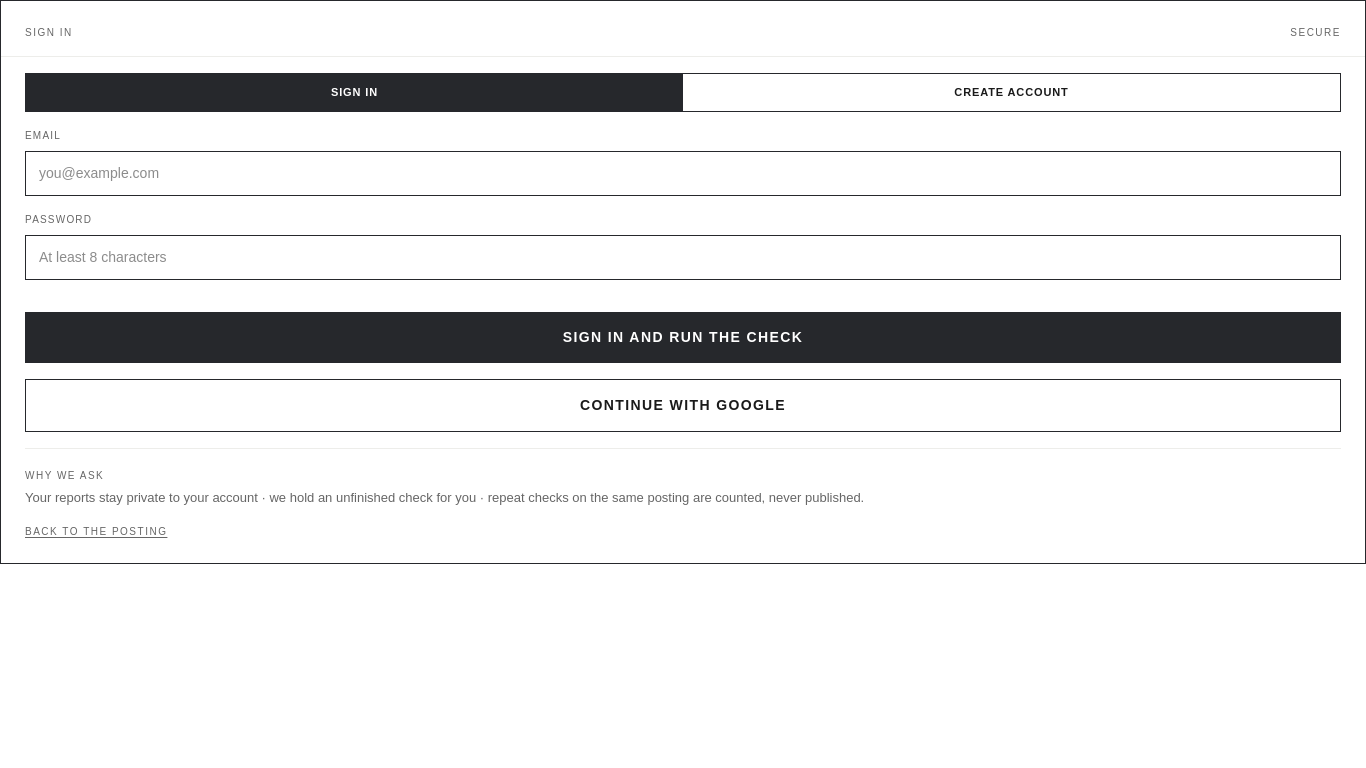
AuthForm › blocks submit and shows a message when password < 8 chars
Type "a@b.com" into the field labelled "Email" at [683, 173], box [25,150,1341,196]
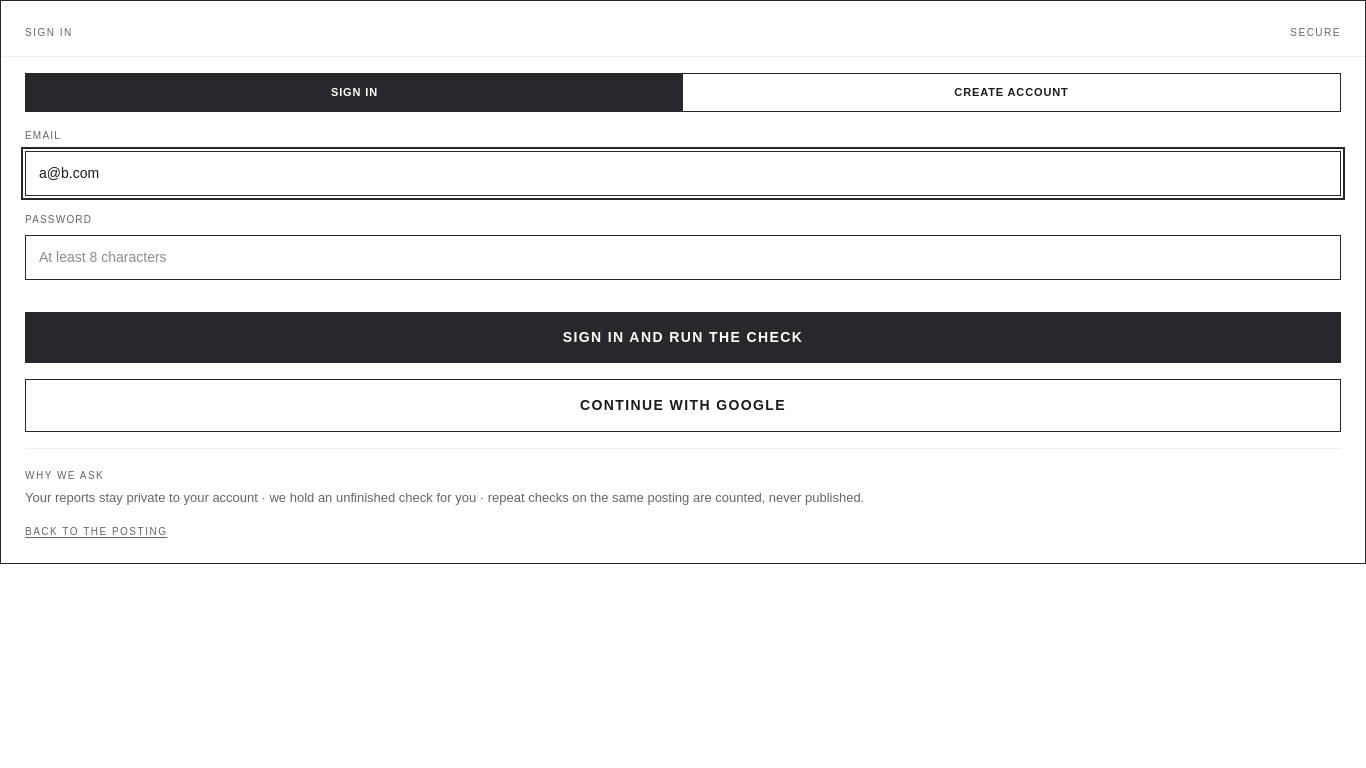
Type "short" into the password field labelled "Password" at [683, 257], box [25,234,1341,280]
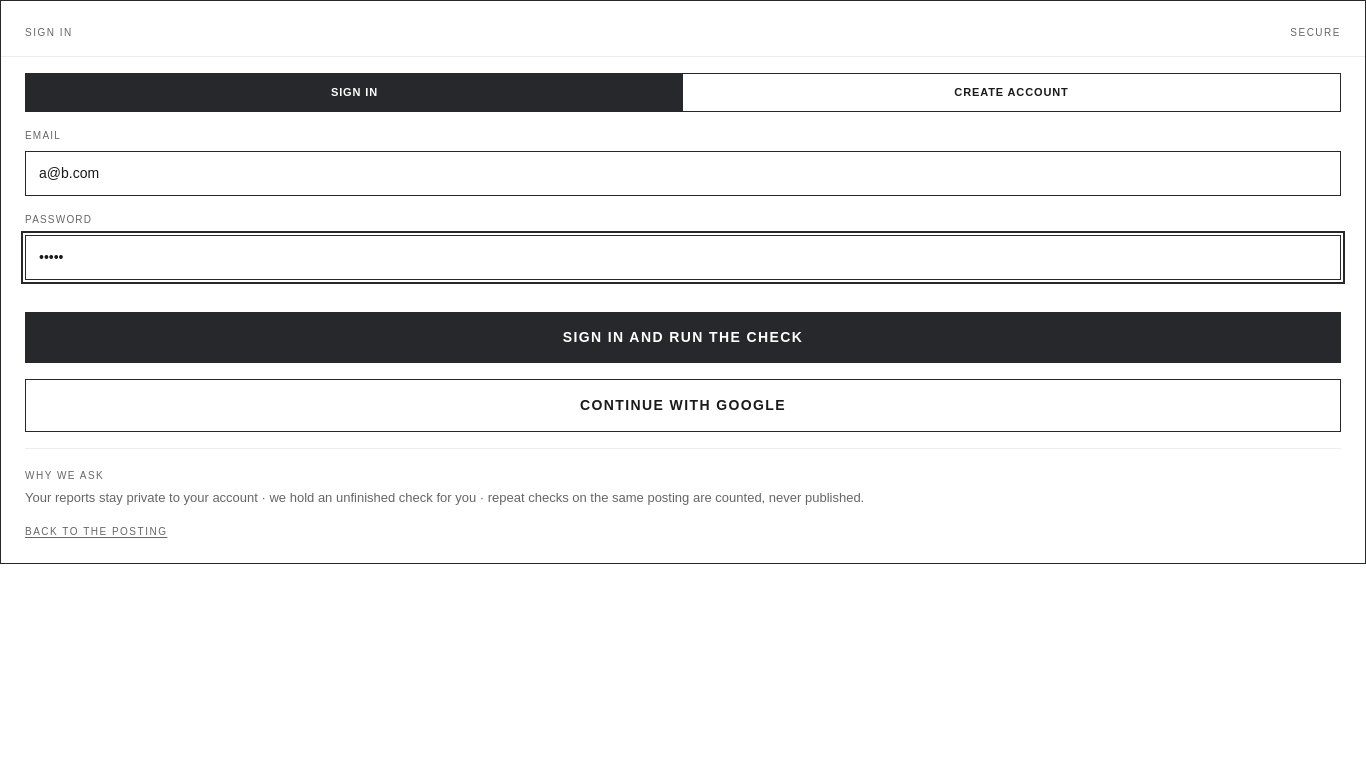
Click the button "SIGN IN AND RUN THE CHECK" at [683, 337], box [25,312,1341,362]
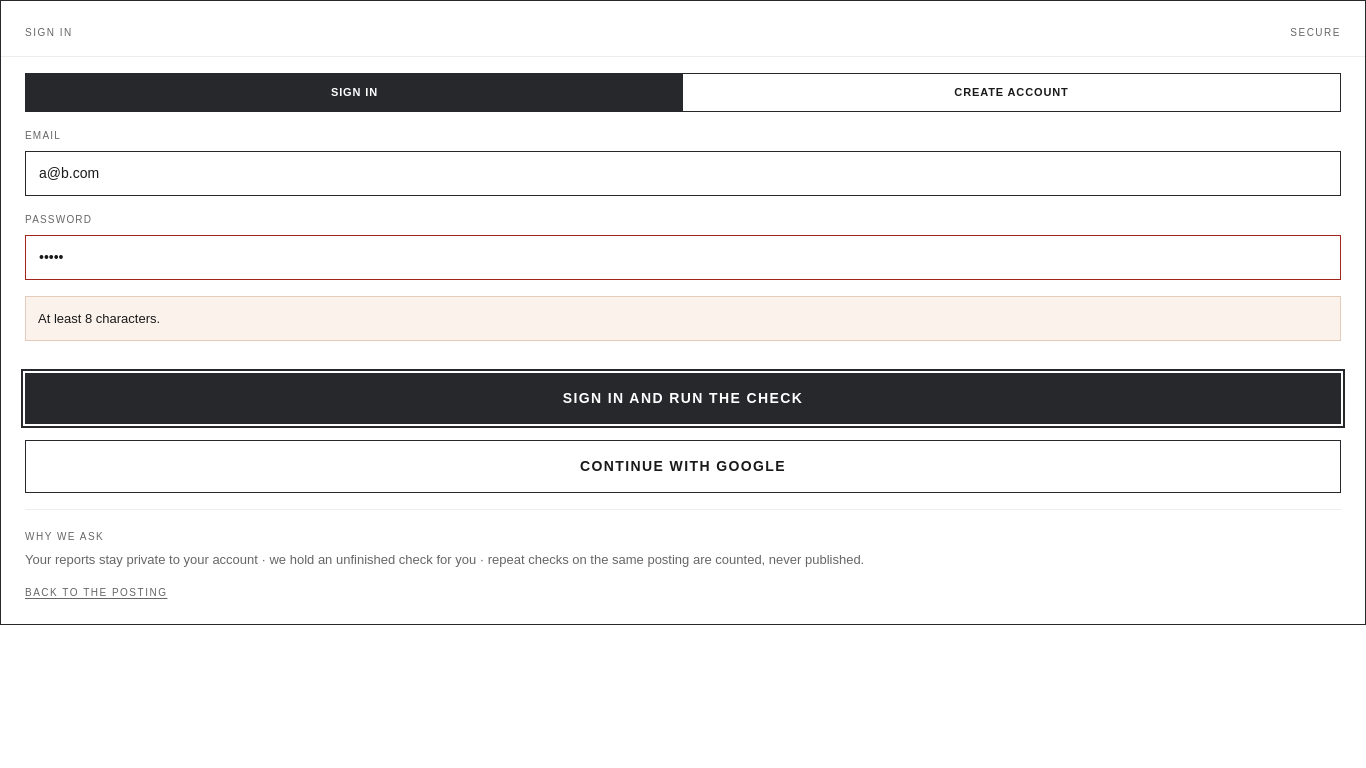
Now the text "At least 8 characters." is shown, box [38,310,160,326]
